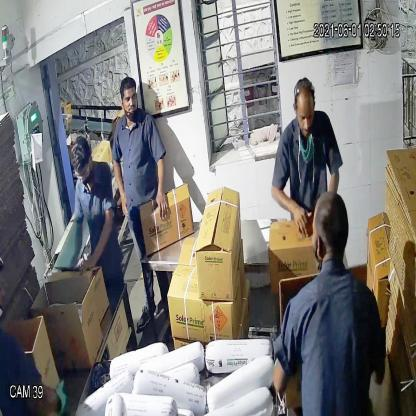goggles: (71, 161, 93, 186)
no_goggles: (291, 104, 318, 128), (116, 88, 142, 111)
